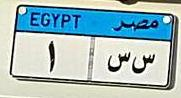1: (48, 40, 57, 73)
seen: (105, 51, 131, 78), (131, 51, 157, 77)
